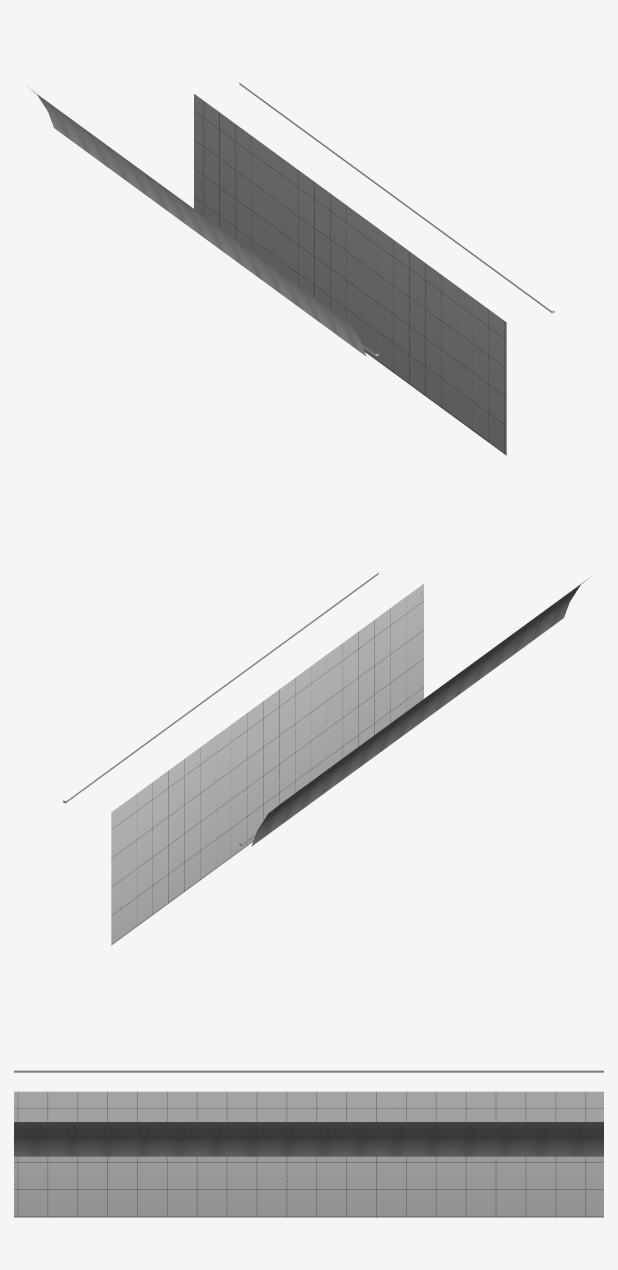
Rendered from AMB_MEI_TENJO01.glb.
3 renders of one model, top to bottom at view 1: azimuth 30°, elevation 25°; view 2: azimuth 150°, elevation 25°; view 3: azimuth 270°, elevation 25°, orthographic. The views are drawn at different scales.
Parts seen in each view (by area): view 1: Mesh1; view 2: Mesh1; view 3: Mesh1.
Boxes of the visible parts, box(x1,y1,x2,y2) form: Mesh1: box(30, 82, 554, 455); Mesh1: box(63, 572, 587, 945); Mesh1: box(14, 1070, 603, 1217).
Bounding box in the file's own units: 25.6 × 16.68 × 50.
Materials: 4 (3 with a texture image).
